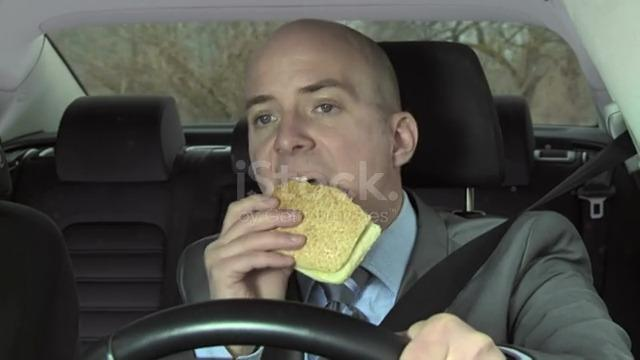Eating: (209, 35, 414, 301)
